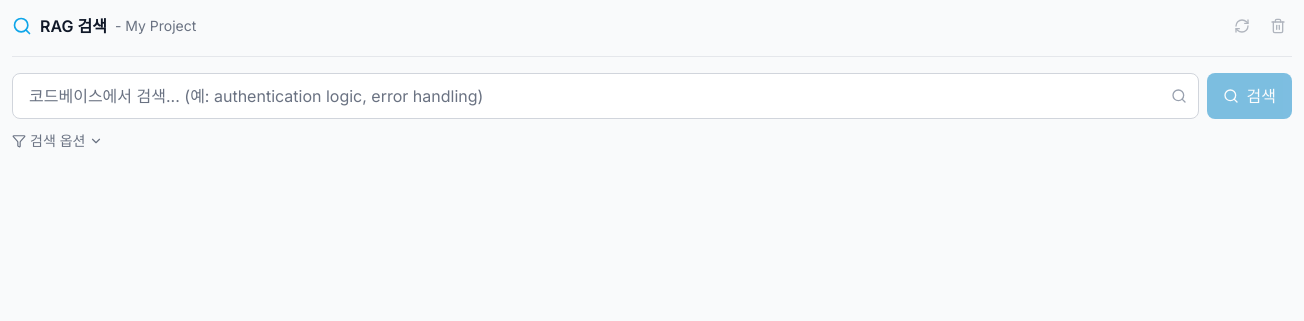
Scenario: RAGQueryPanel › performs search on button click
Type "auth logic" into the field with placeholder "코드베이스에서 검색... (예: authentication logic, error handling)". click: coordinates (605, 96)
box: [12,73,1198,119]
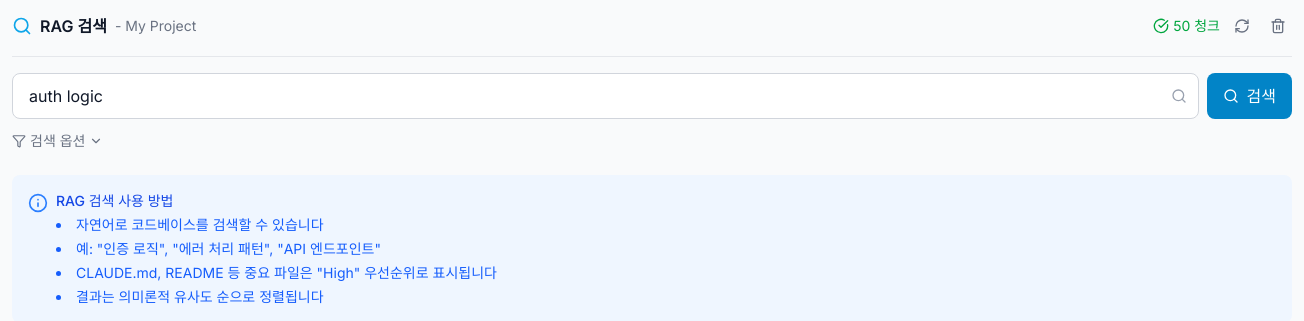
Click the button "검색". click: coordinates (1249, 96)
box: [1206,73,1292,119]
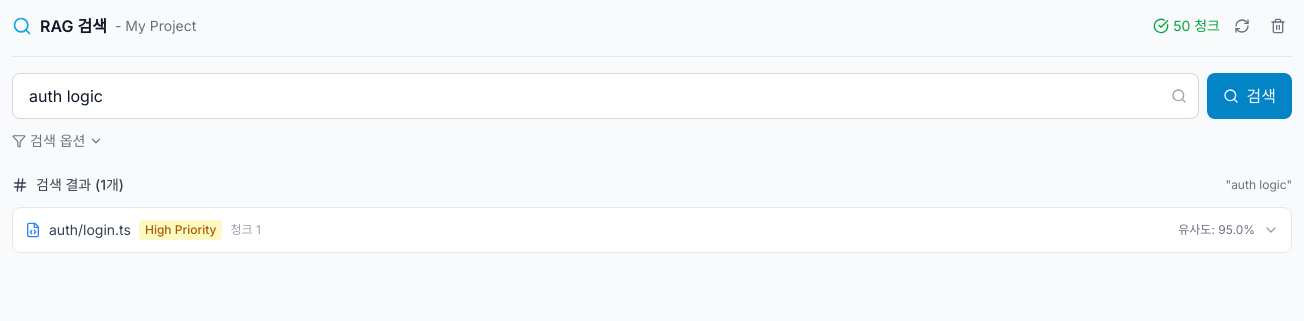
Result: the heading "검색 결과 (1개)" is shown at [12,175,124,195]
